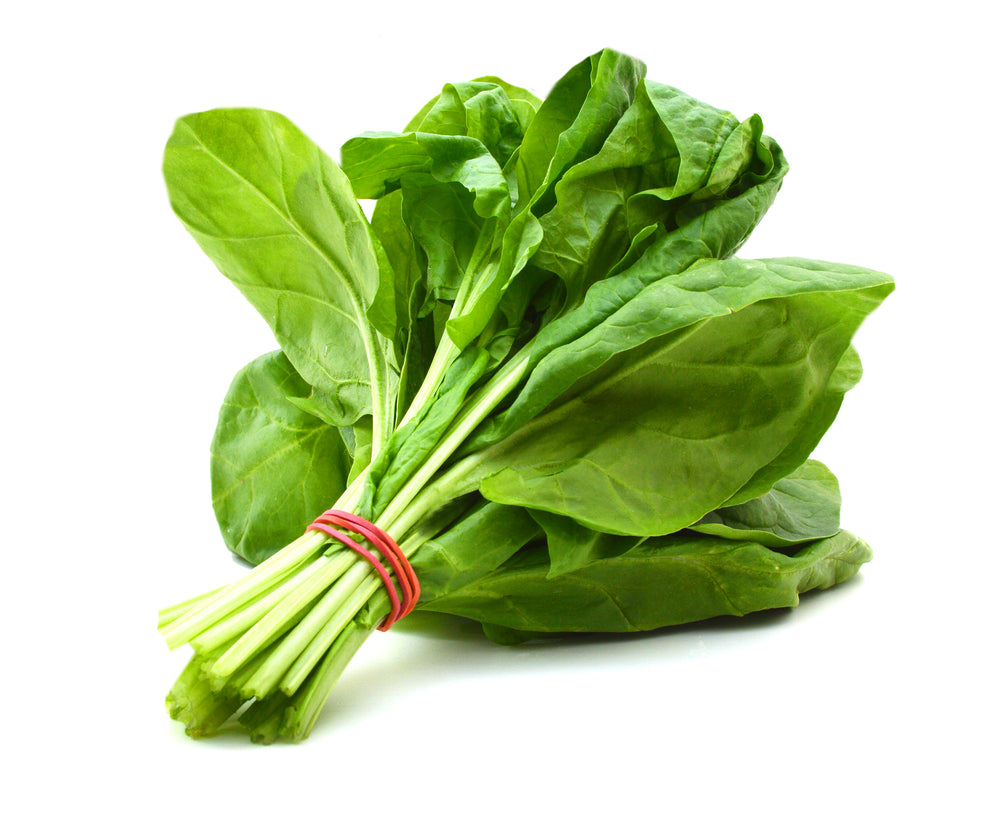Bayam: (104, 56, 807, 686)
